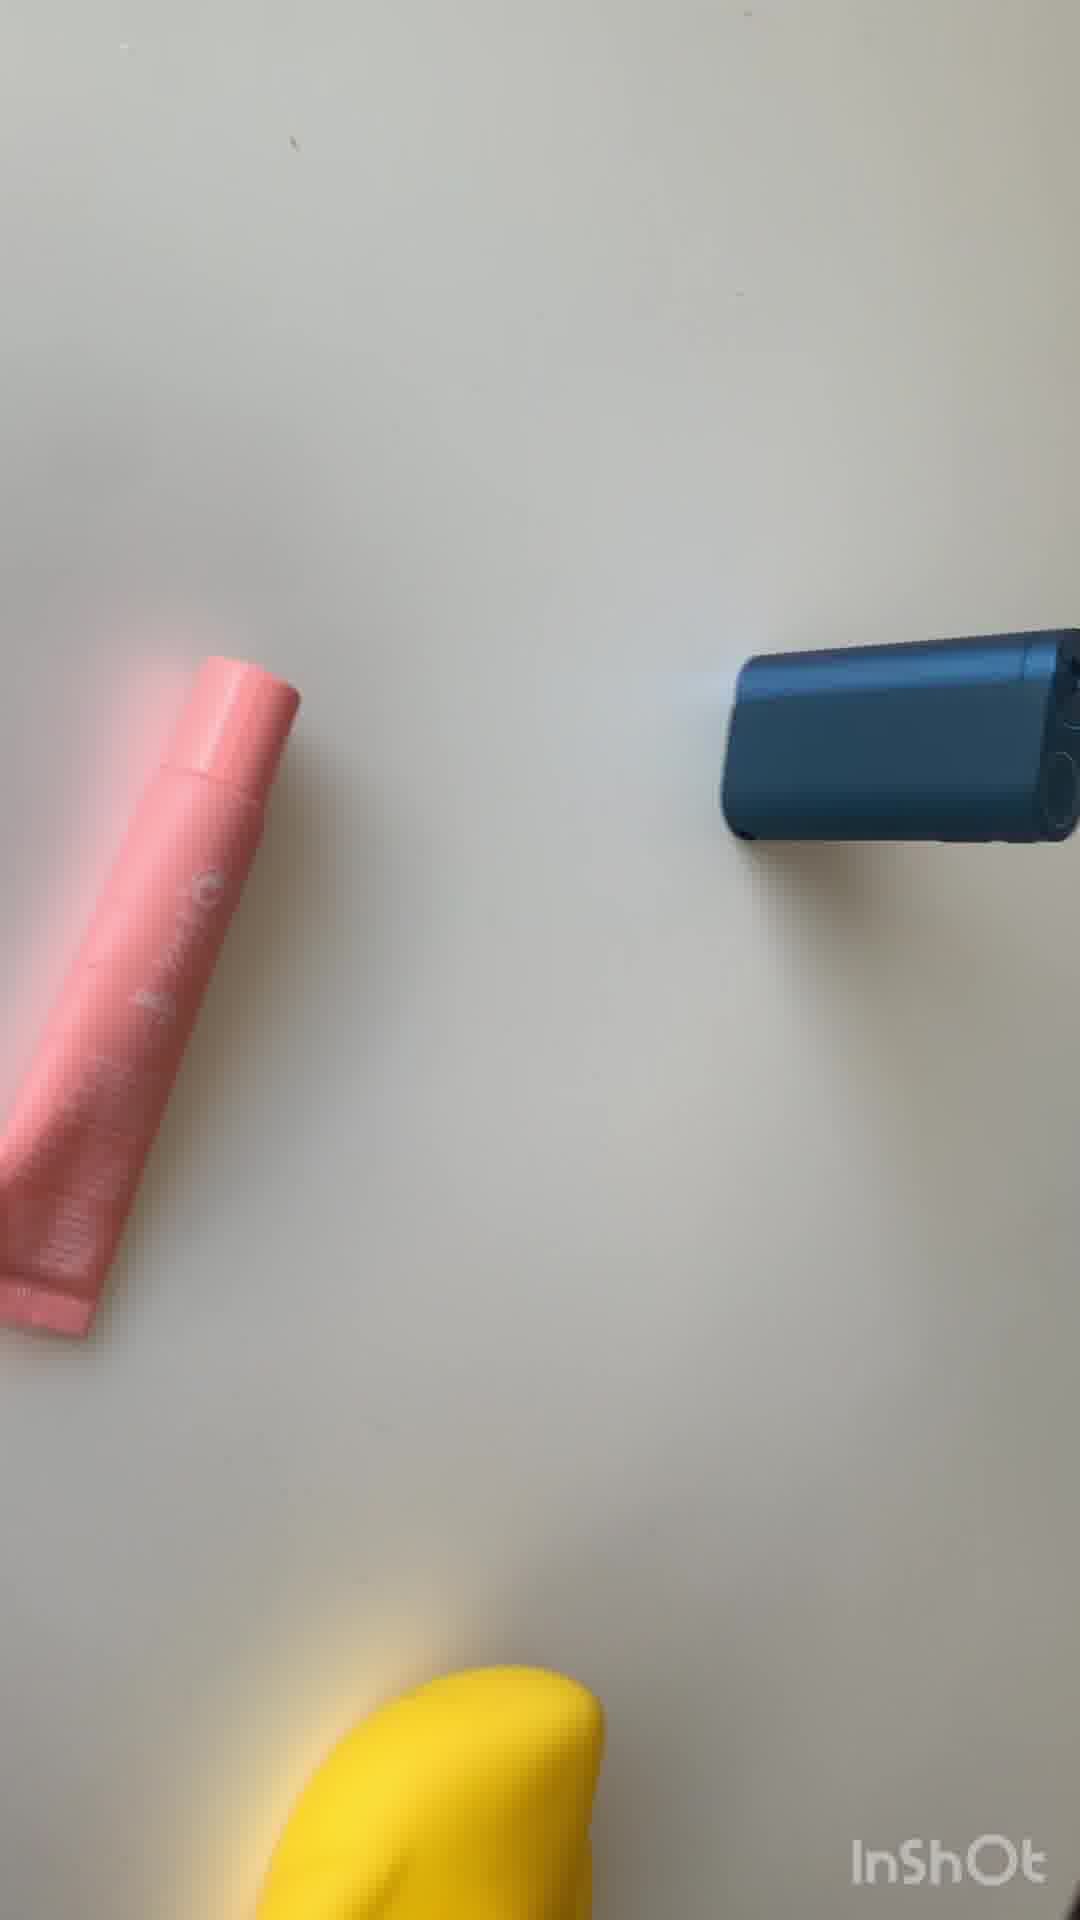duck: (244, 1648, 636, 1920)
glo: (709, 622, 1080, 858)
lip balm: (1, 654, 313, 1346)
